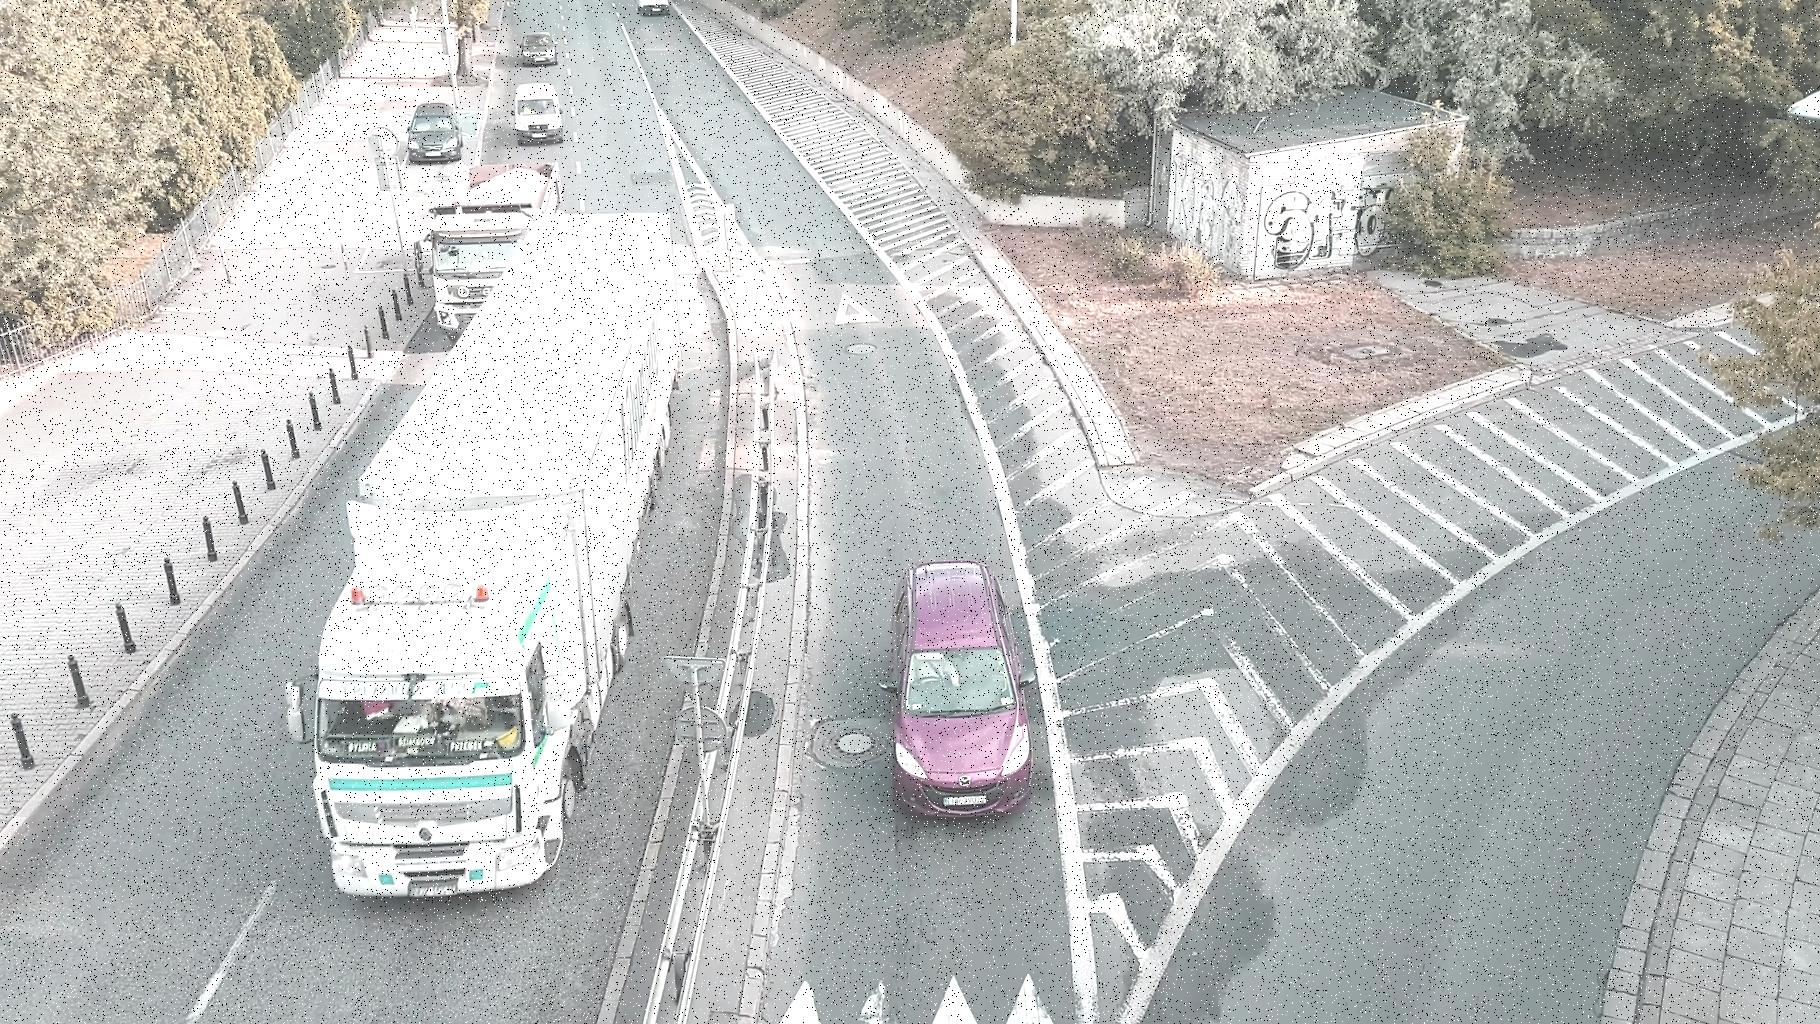car: (882, 543, 1036, 815), (400, 91, 470, 170), (509, 76, 569, 143), (516, 24, 566, 69), (625, 0, 679, 18)
truck: (294, 196, 690, 913), (416, 154, 562, 335)
